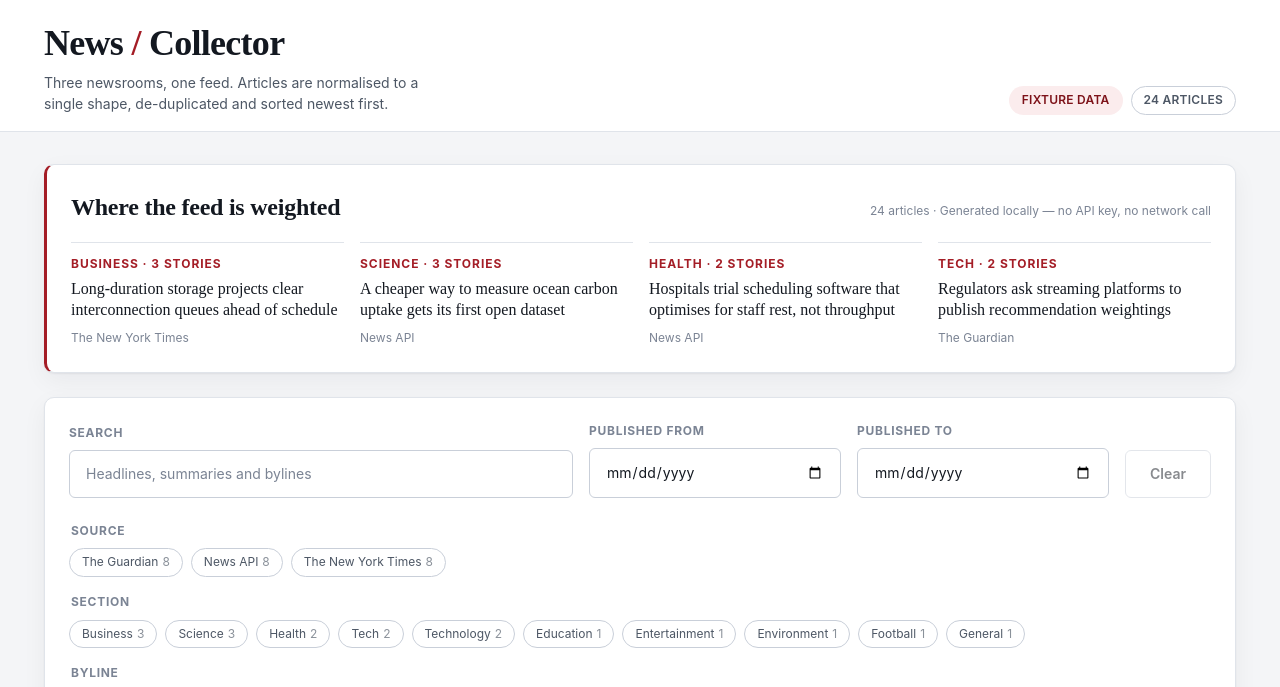
FeedPage › narrows the feed by source and writes the choice into the URL
Click the button "The Guardian8" at (126, 563), box [69, 548, 183, 577]
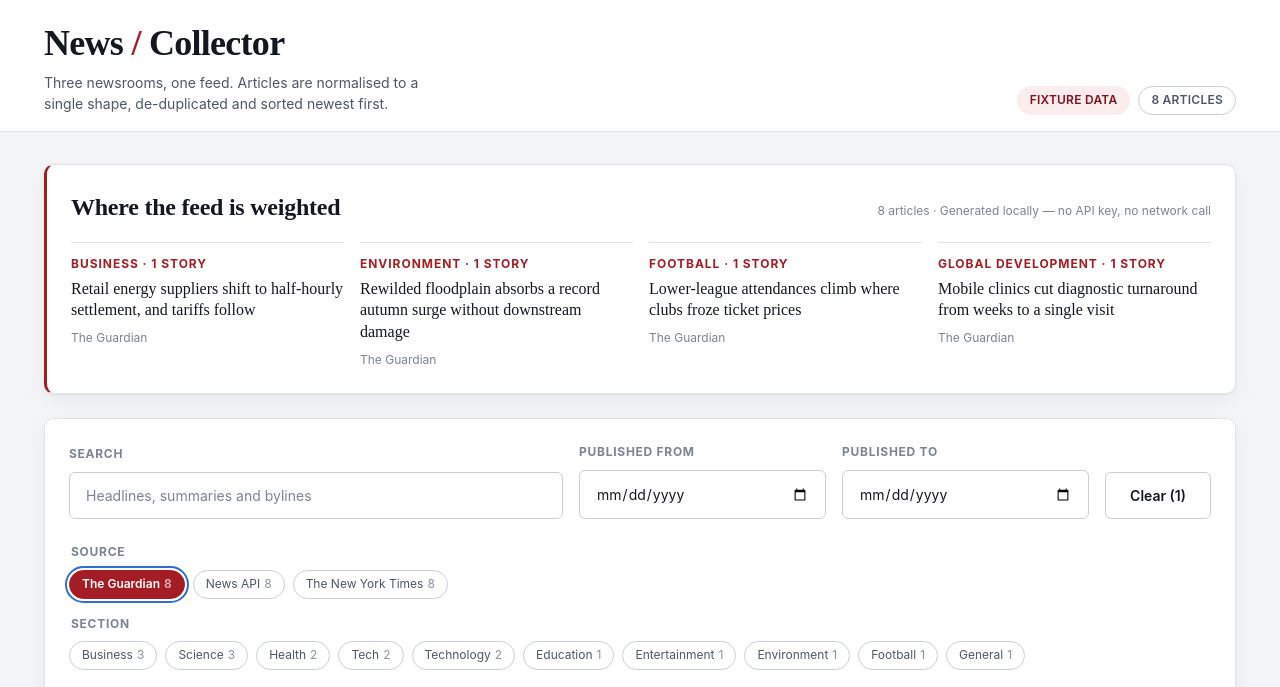
Expected: the button "The New York Times8" is shown, [293, 570, 448, 599]
Expected: the text "8 articles" is shown, [1138, 86, 1236, 115]
